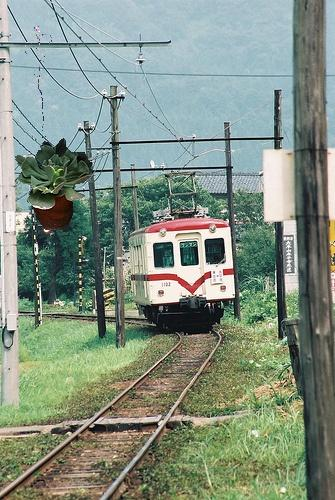tampered: (16, 27, 92, 230)
